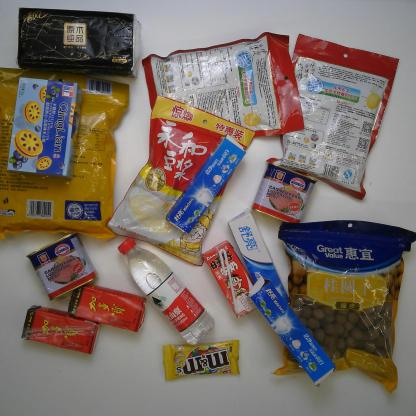Canned Food: (23, 230, 100, 304), (248, 161, 320, 228)
Chocolate: (160, 337, 243, 383)
Dessert: (6, 75, 83, 181)
Dried Food: (268, 217, 416, 396), (0, 66, 132, 244)
Drink: (115, 235, 216, 347), (66, 280, 148, 335), (18, 304, 102, 357)
Instant Drink: (106, 94, 258, 269), (264, 32, 401, 201), (138, 31, 306, 143)
Milk: (199, 239, 261, 319)
Personal Hygiene: (243, 273, 338, 389), (164, 130, 249, 236), (224, 206, 292, 311)
Tissue: (15, 5, 142, 80)
